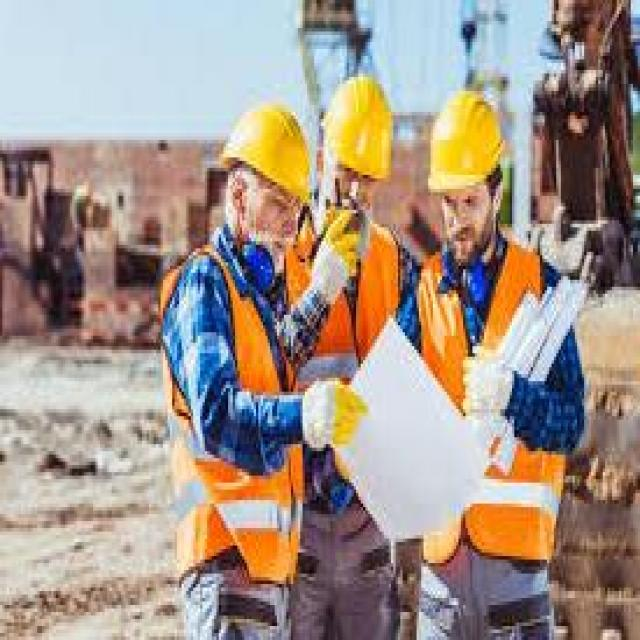Reflective-Jacket: (153, 231, 310, 591), (414, 242, 573, 574)
Safety-Helmet: (216, 94, 316, 214), (318, 66, 402, 192), (424, 84, 509, 203)
